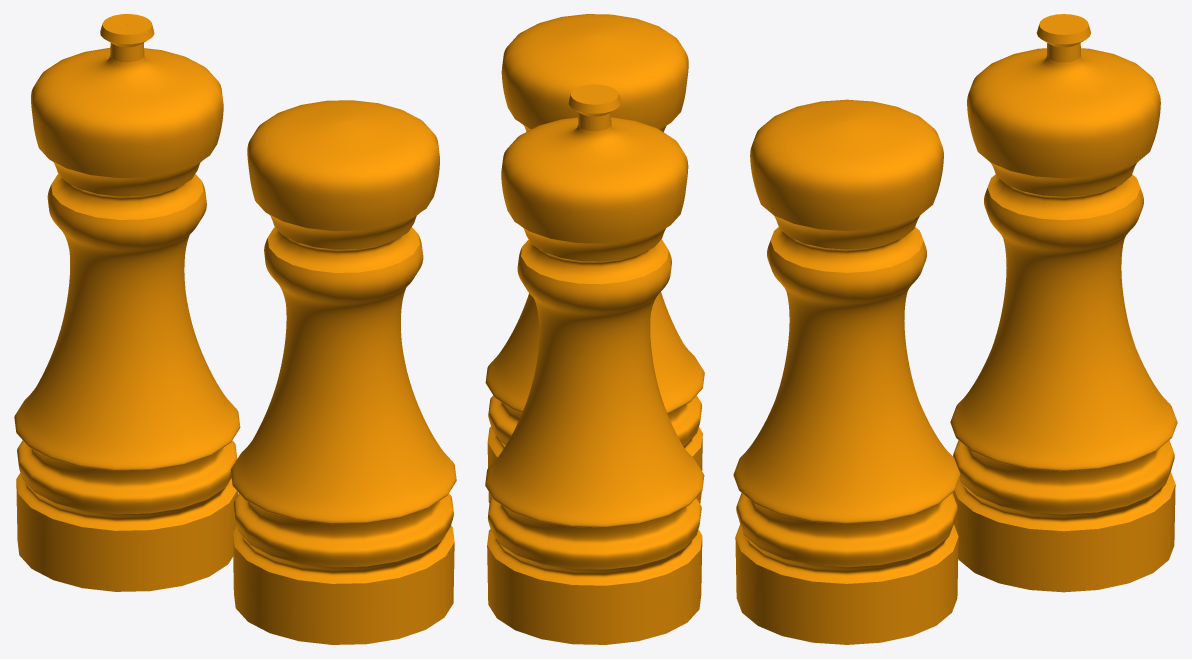
Rendered from Salt&PepperShaker.FBX.
The picture shows the model from 3 angles, left to right: view 1: azimuth 30°, elevation 25°; view 2: azimuth 150°, elevation 25°; view 3: azimuth 270°, elevation 25°; orthographic projection. The views are drawn at different scales.
Parts seen in each view (by area): view 1: Line03, Line04; view 2: Line03, Line04; view 3: Line03, Line04.
Part boxes in pixels (box(x1,y1,x2,y2)): Line03: box(14, 14, 240, 591); Line04: box(230, 100, 456, 644); Line03: box(485, 84, 704, 644); Line04: box(485, 14, 704, 503); Line03: box(950, 14, 1177, 592); Line04: box(733, 99, 960, 644).
Bounding box in the file's own units: 268 × 438 × 338.
